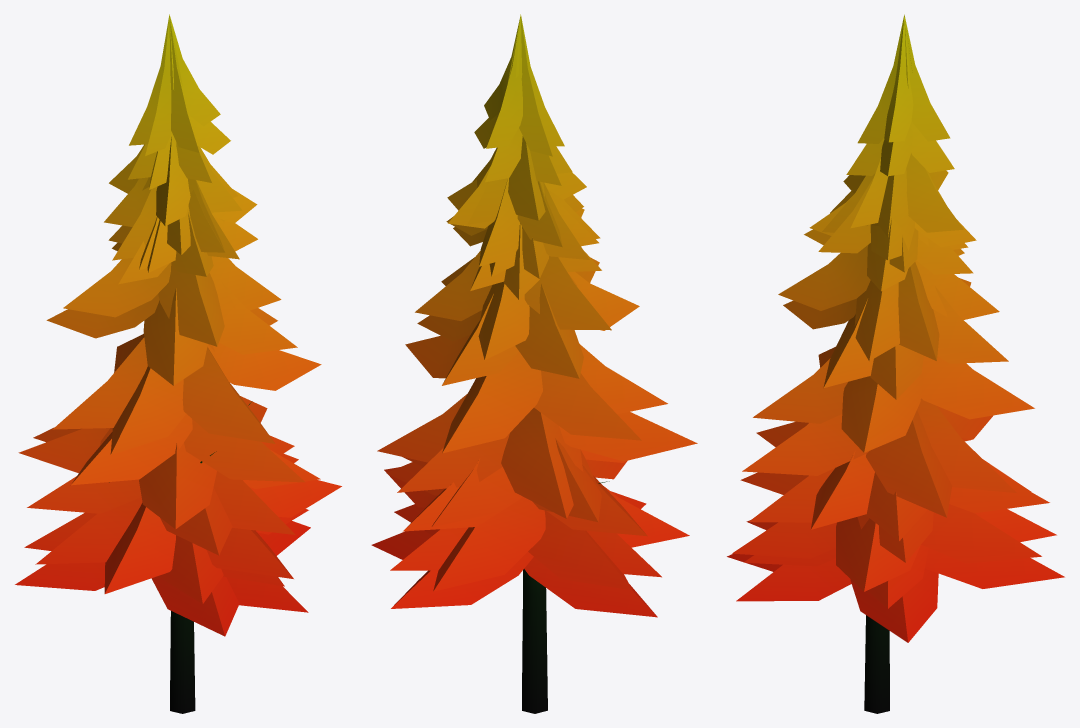
File: small_pine.obj
3 renders of one model, left to right at view 1: azimuth 30°, elevation 25°; view 2: azimuth 150°, elevation 25°; view 3: azimuth 270°, elevation 25°, orthographic. The views are drawn at different scales.
Parts seen in each view (by area): view 1: SmallPine; view 2: SmallPine; view 3: SmallPine.
Part boxes in pixels (left/top/right/bottom): SmallPine: left=15, top=14, right=341, bottom=713; SmallPine: left=371, top=14, right=697, bottom=713; SmallPine: left=727, top=14, right=1064, bottom=713.
Size of the model in its own units: 7.97 by 17.52 by 7.76.
